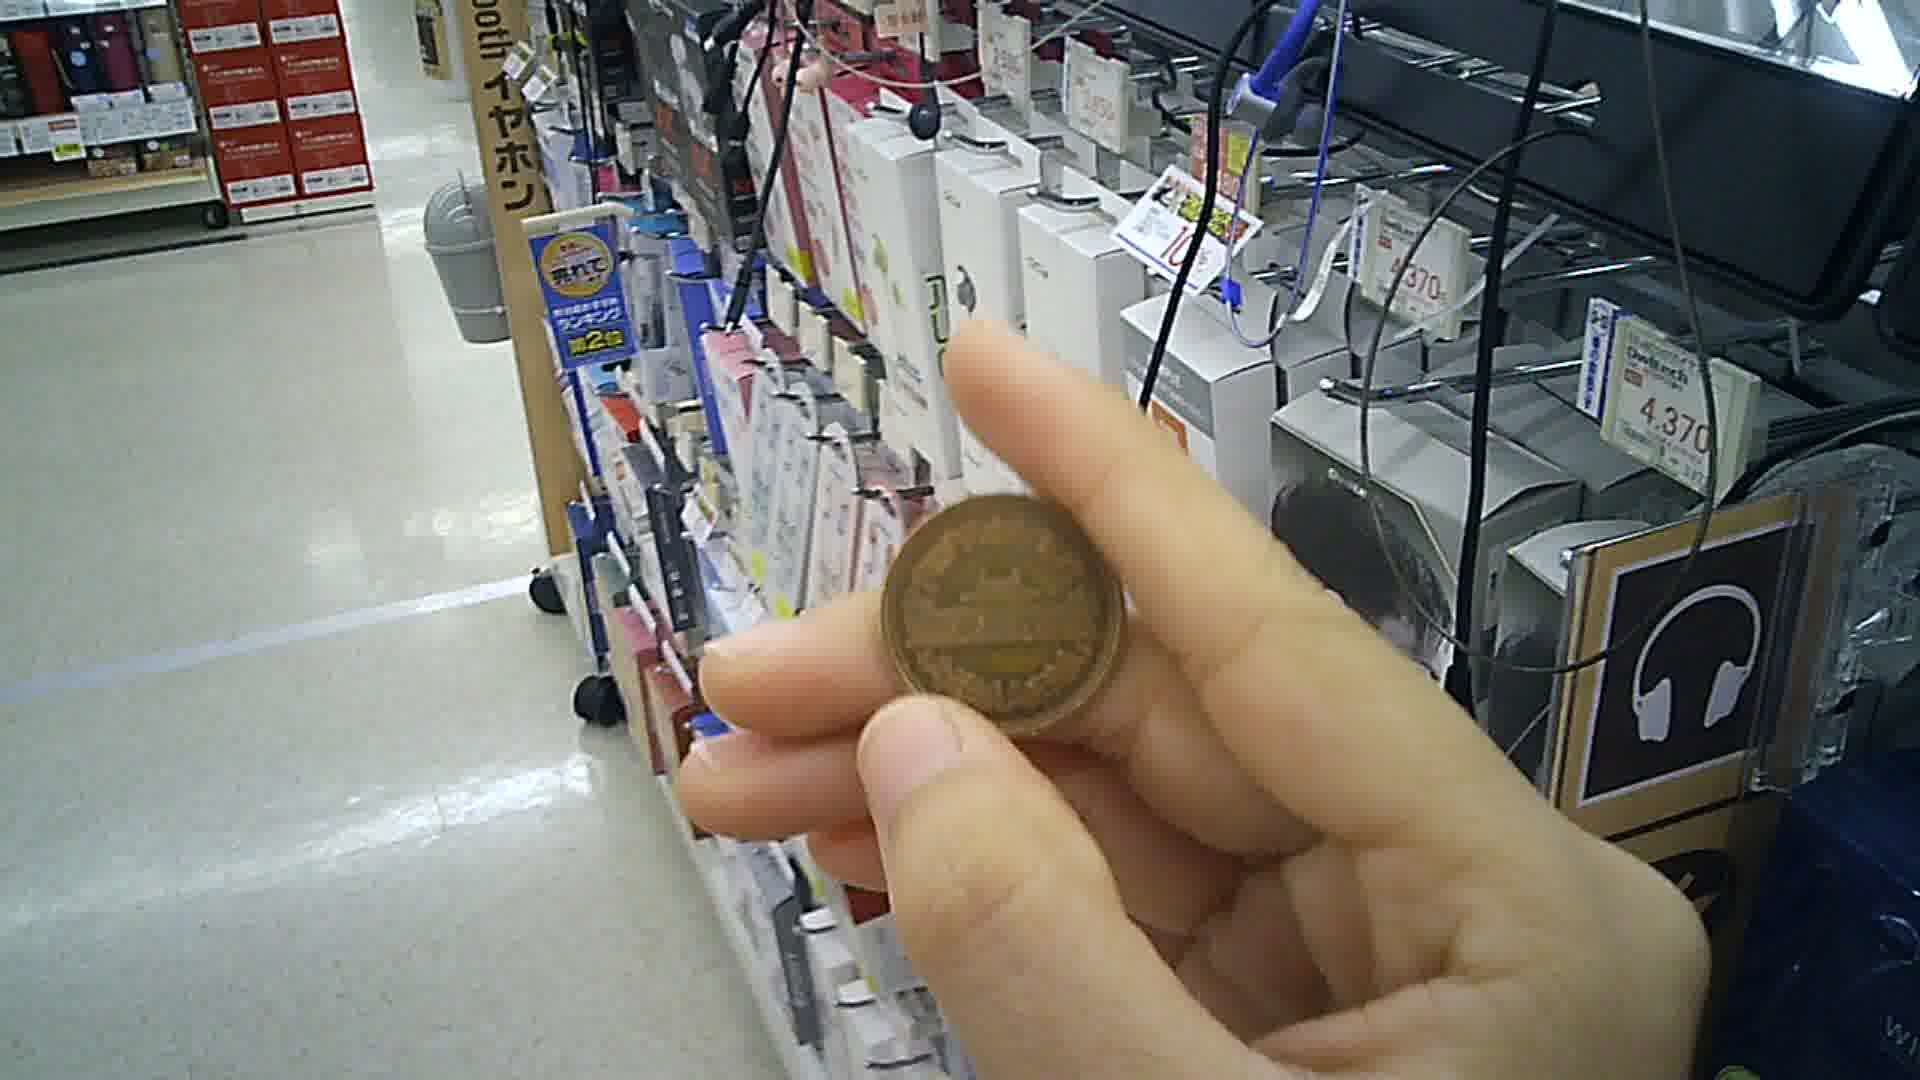10 Yen: (872, 492, 1133, 735)
